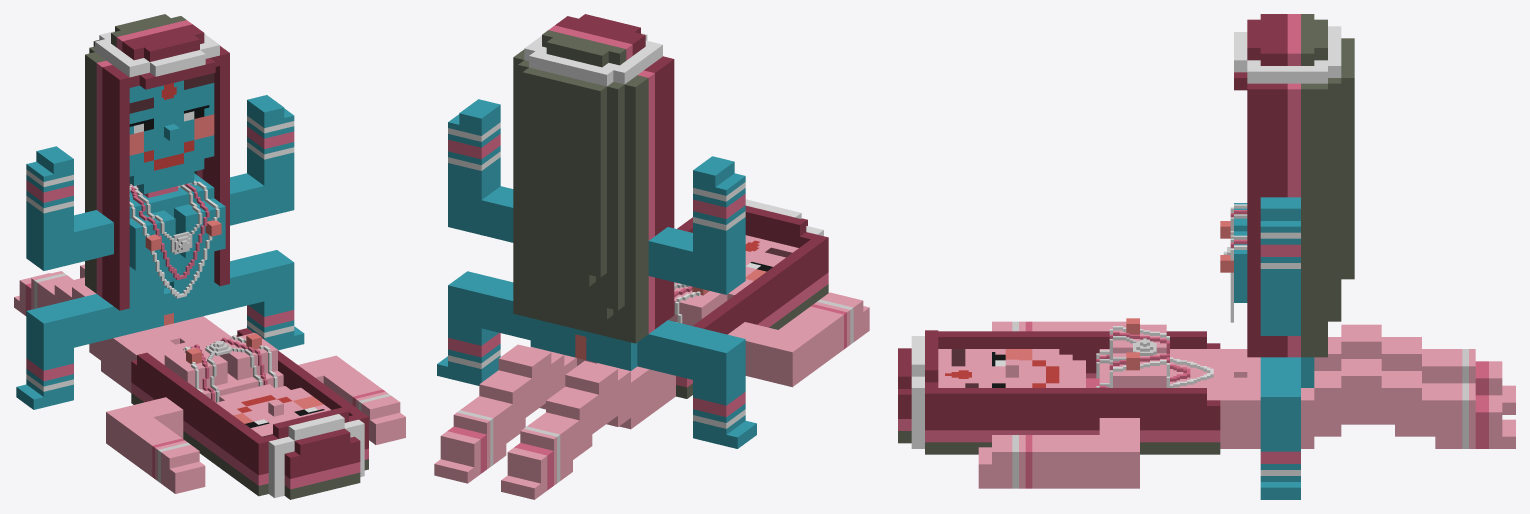
Rendered from kama75.glb.
The picture shows the model from 3 angles, left to right: view 1: azimuth 30°, elevation 25°; view 2: azimuth 150°, elevation 25°; view 3: azimuth 270°, elevation 25°; orthographic projection. The views are drawn at different scales.
Parts seen in each view (by area): view 1: Node; view 2: Node; view 3: Node.
Boxes of the visible parts, x1=… form: Node: x1=14, y1=14, x2=405, y2=499; Node: x1=434, y1=14, x2=869, y2=499; Node: x1=898, y1=14, x2=1515, y2=499.
Size of the model in its own units: 10.8 by 12.8 by 18.4.
Materials: 1 (1 with a texture image).
